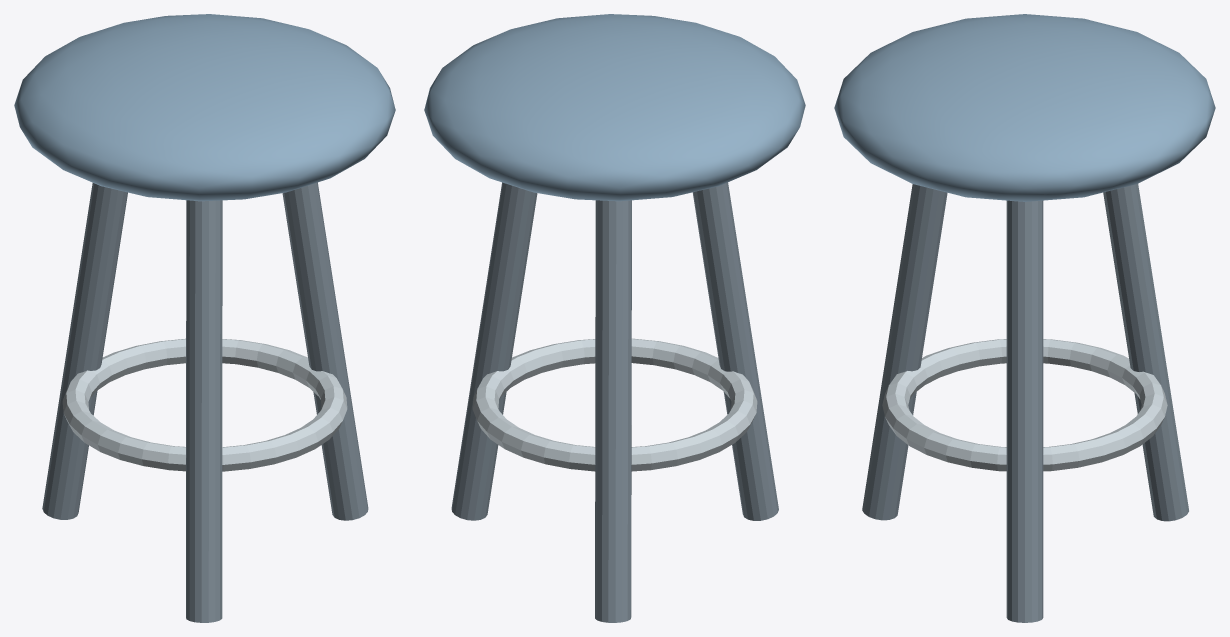
The model's file is school_lab_stool.glb.
The picture shows the model from 3 angles, left to right: view 1: azimuth 30°, elevation 25°; view 2: azimuth 150°, elevation 25°; view 3: azimuth 270°, elevation 25°; orthographic projection.
Visible parts, largest first — view 1: decor_476a8a_fabric, decor_455665_metal, decor_9aadb8_metal; view 2: decor_476a8a_fabric, decor_455665_metal, decor_9aadb8_metal; view 3: decor_476a8a_fabric, decor_455665_metal, decor_9aadb8_metal.
Boxes of the visible parts, <box> form: decor_476a8a_fabric: <box>14,14,395,201</box>; decor_455665_metal: <box>42,182,368,622</box>; decor_9aadb8_metal: <box>62,338,347,471</box>; decor_476a8a_fabric: <box>424,14,805,201</box>; decor_455665_metal: <box>451,182,778,622</box>; decor_9aadb8_metal: <box>472,338,757,471</box>; decor_476a8a_fabric: <box>834,14,1215,201</box>; decor_455665_metal: <box>862,184,1188,622</box>; decor_9aadb8_metal: <box>882,339,1167,471</box>.
Size of the model in its own units: 0.5 by 0.7087 by 0.5.
